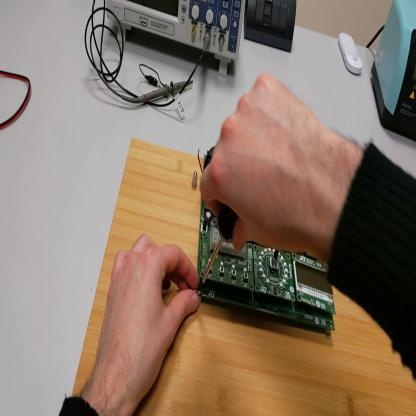hand: (201, 72, 332, 261), (95, 232, 202, 399)
low voltage board: (197, 145, 337, 331)
oscilloscope: (105, 1, 246, 74)
oscilloscope probe tip: (136, 82, 194, 106)
screwdriver-: (199, 205, 242, 291)
welder station: (372, 2, 416, 142)
working area: (72, 137, 416, 416)
